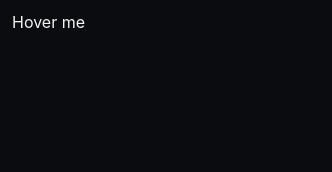
Test: Tooltip › shows tooltip in a document.body portal after 160ms hover delay and hides on leave
Hover over the element showing "Hover me": (48, 22) [12,12,85,32]
Wait 160 ms
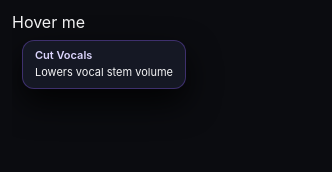
Expected: the tooltip "Cut Vocals Lowers vocal stem volume" is shown, [22,40,186,89]
Expected: the text "Cut Vocals" is shown, [35,48,92,62]
Expected: the text "Lowers vocal stem volume" is shown, [35,65,173,80]
Move the pointer off the element showing "Hover me", box [12,12,85,32]
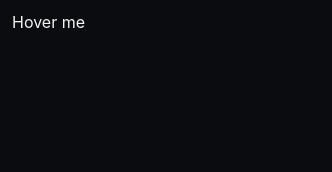
Expected: the tooltip "Cut Vocals Lowers vocal stem volume" is gone
